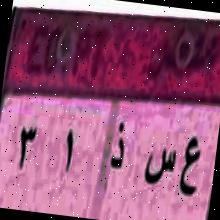1: (56, 125, 80, 182)
3: (15, 118, 40, 174)
ain: (172, 130, 204, 212)
seen: (140, 136, 178, 194)
zaal: (106, 119, 128, 174)
